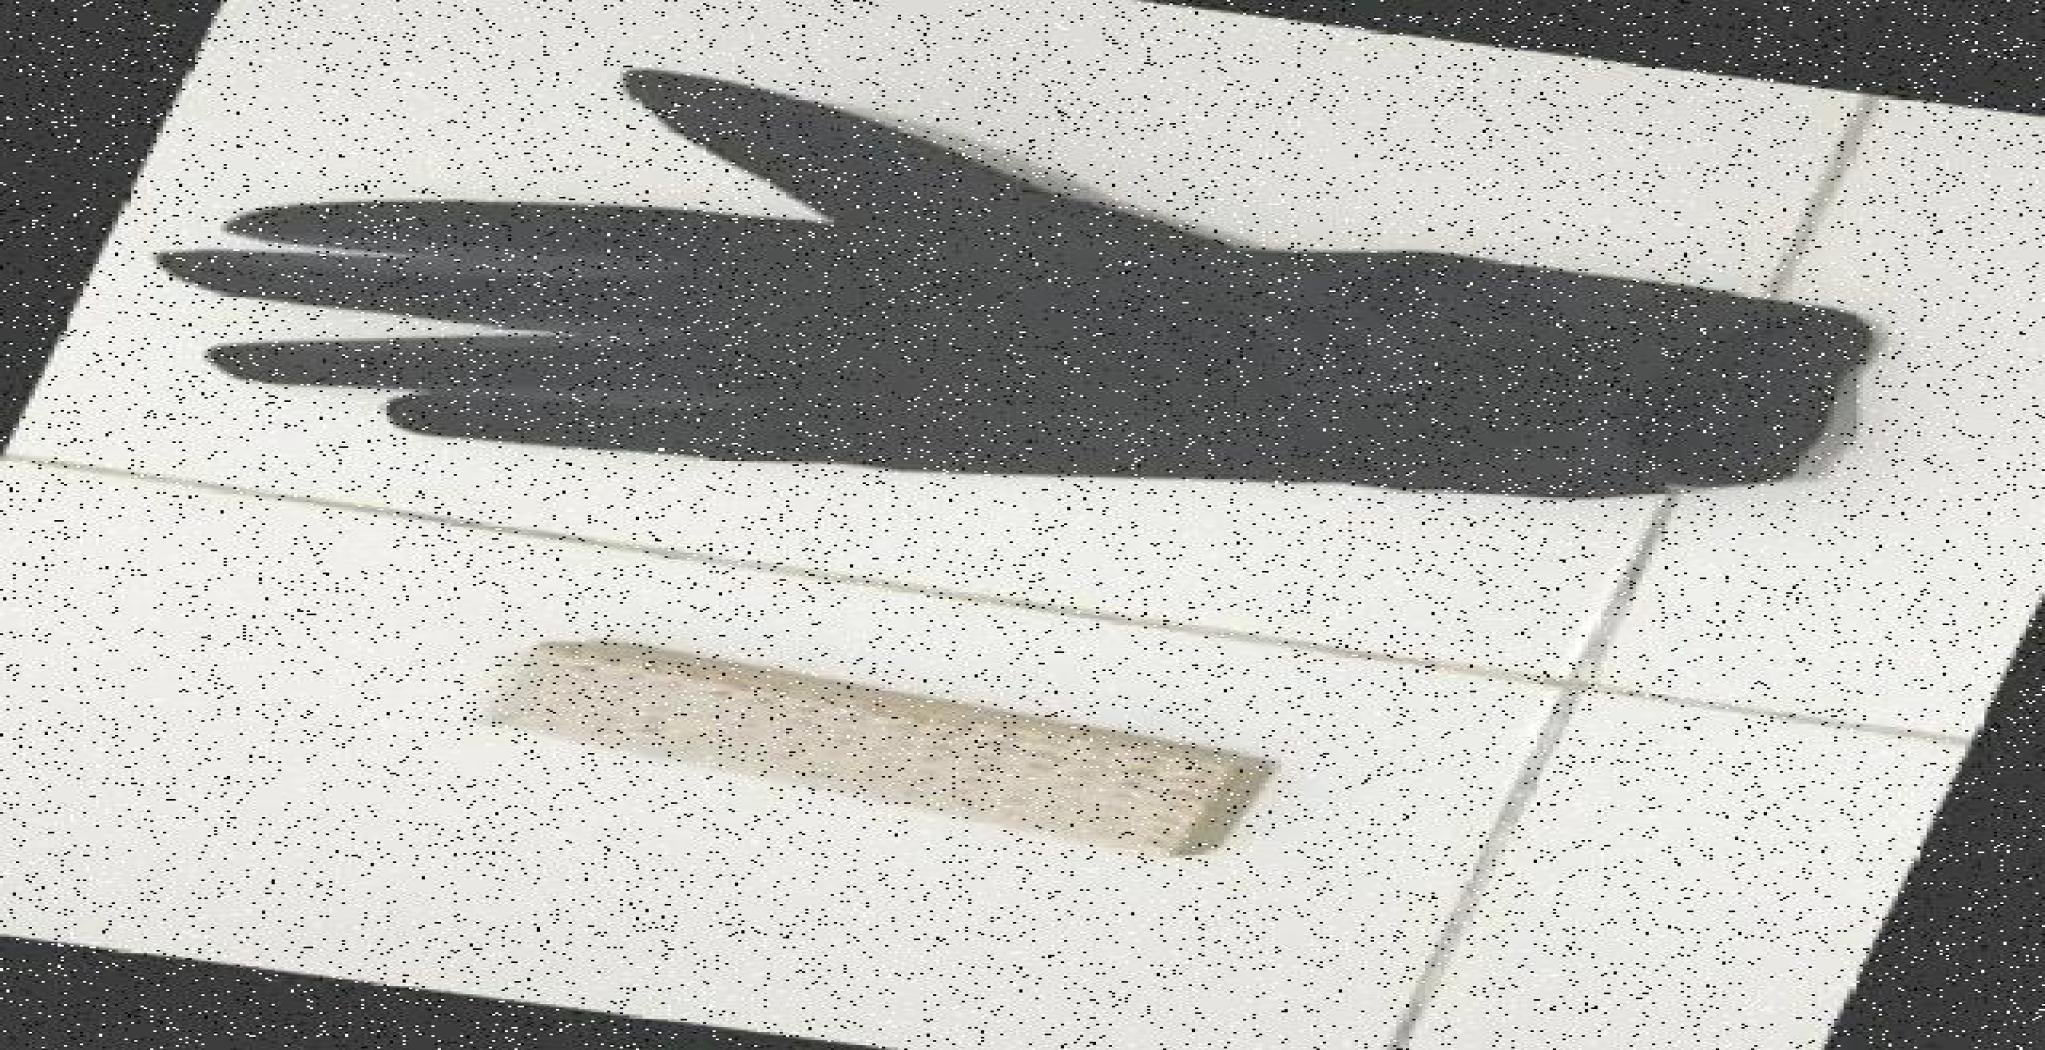gloved: (153, 64, 1876, 500)
